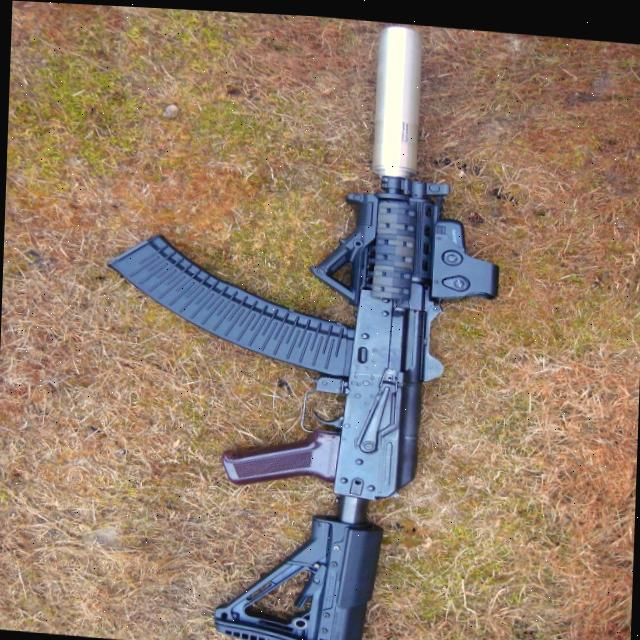firearm: (95, 4, 507, 640)
